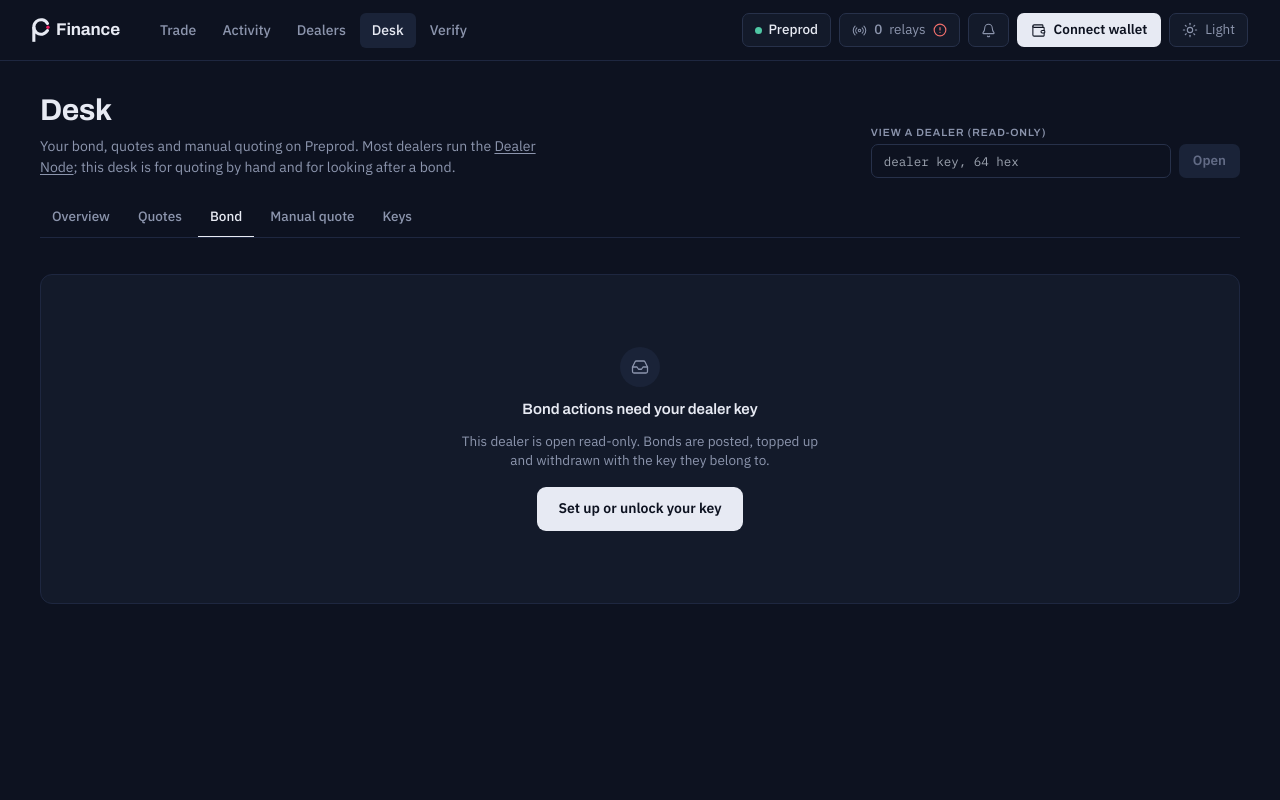
Test: /desk › opens any dealer read-only and asks for a key before acting
Expected: the heading "Bond actions need your dealer key" is shown, [522, 398, 758, 420]
Click the tab "Overview".
click(81, 218)  # box [40, 198, 122, 238]
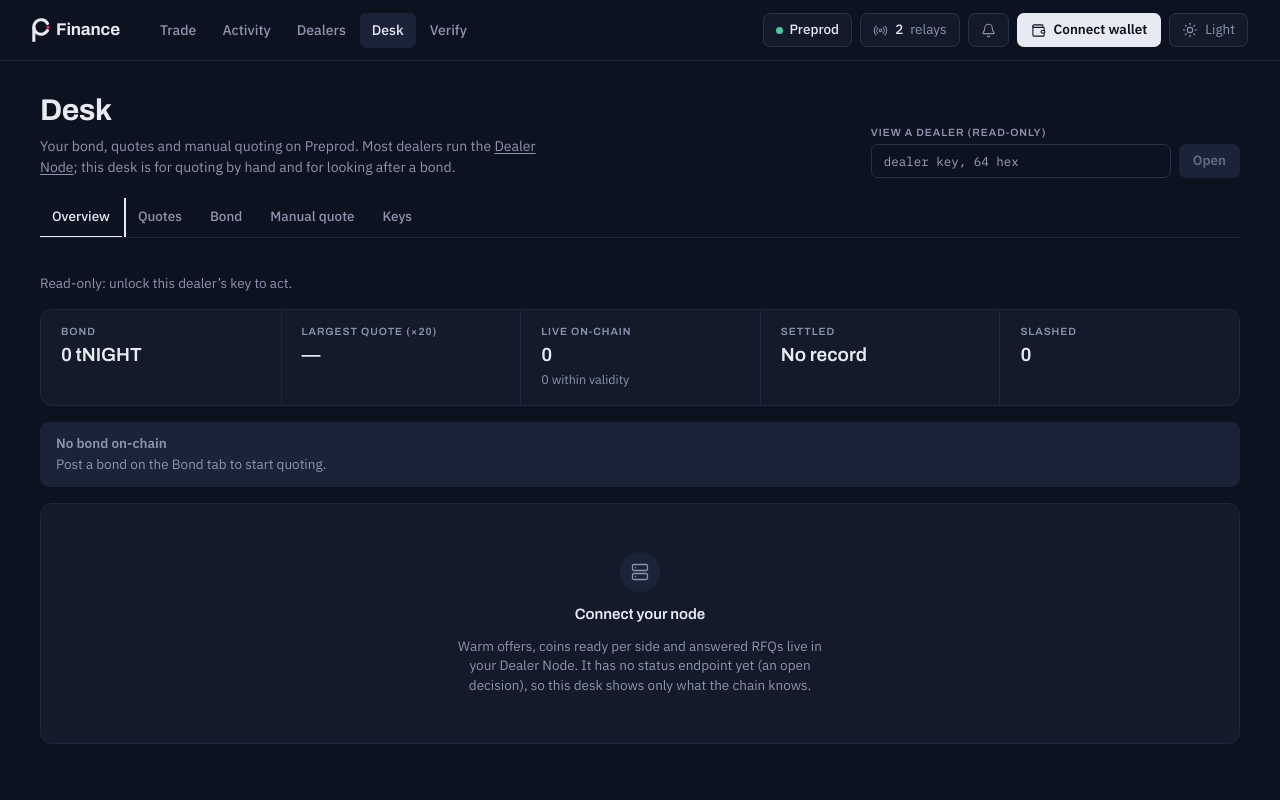
Result: the text "Read-only: unlock this dealer’s key to act." is shown at [40, 274, 292, 293]
